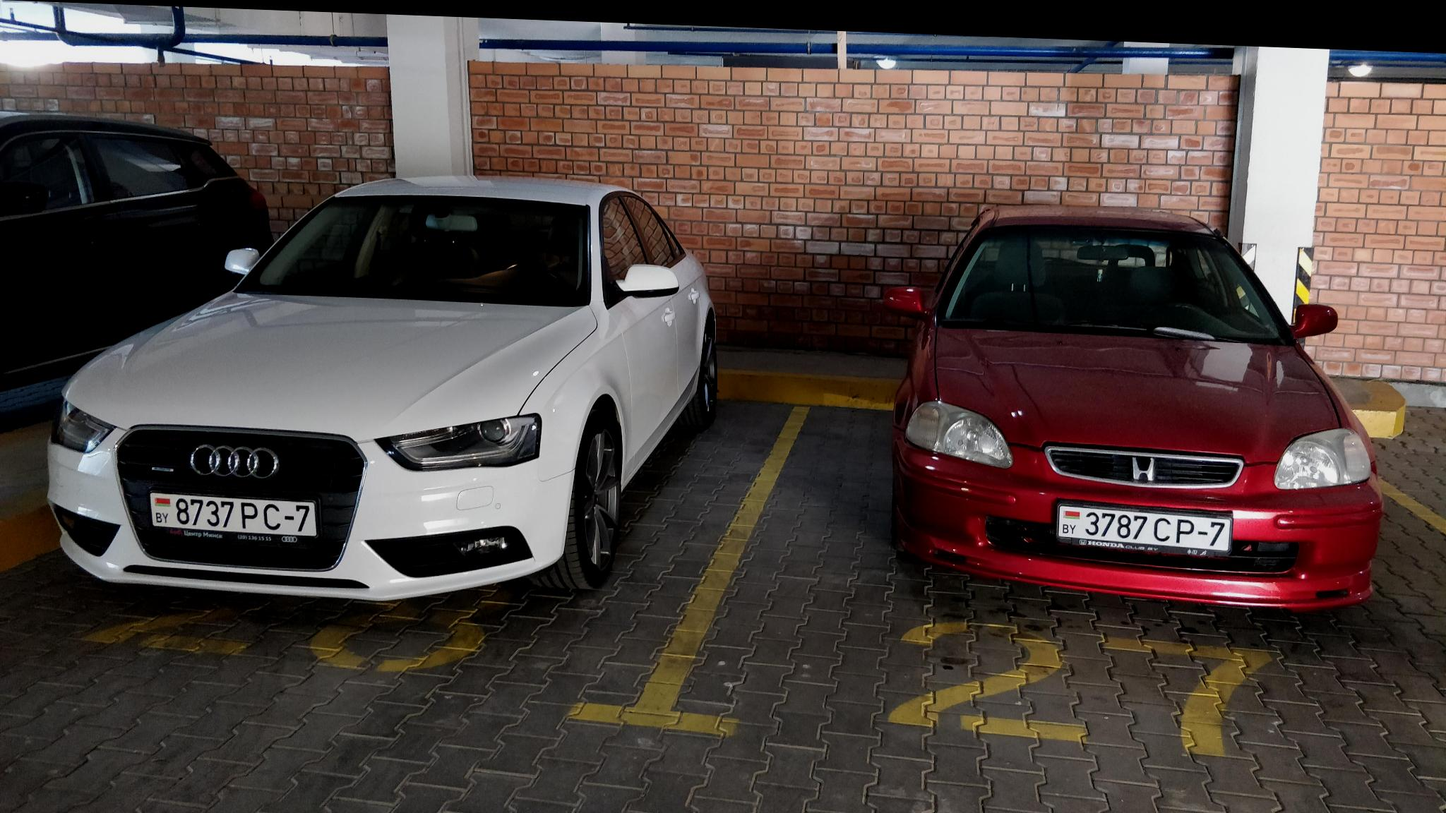License_Plate: (1053, 498, 1239, 565), (148, 488, 326, 544)
